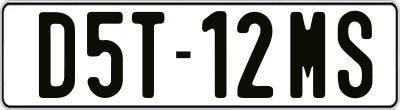1: (202, 11, 229, 99)
2: (237, 10, 278, 98)
5: (85, 9, 122, 98)
D: (39, 10, 80, 99)
M: (290, 12, 325, 100)
S: (338, 9, 378, 99)
T: (131, 12, 168, 99)
